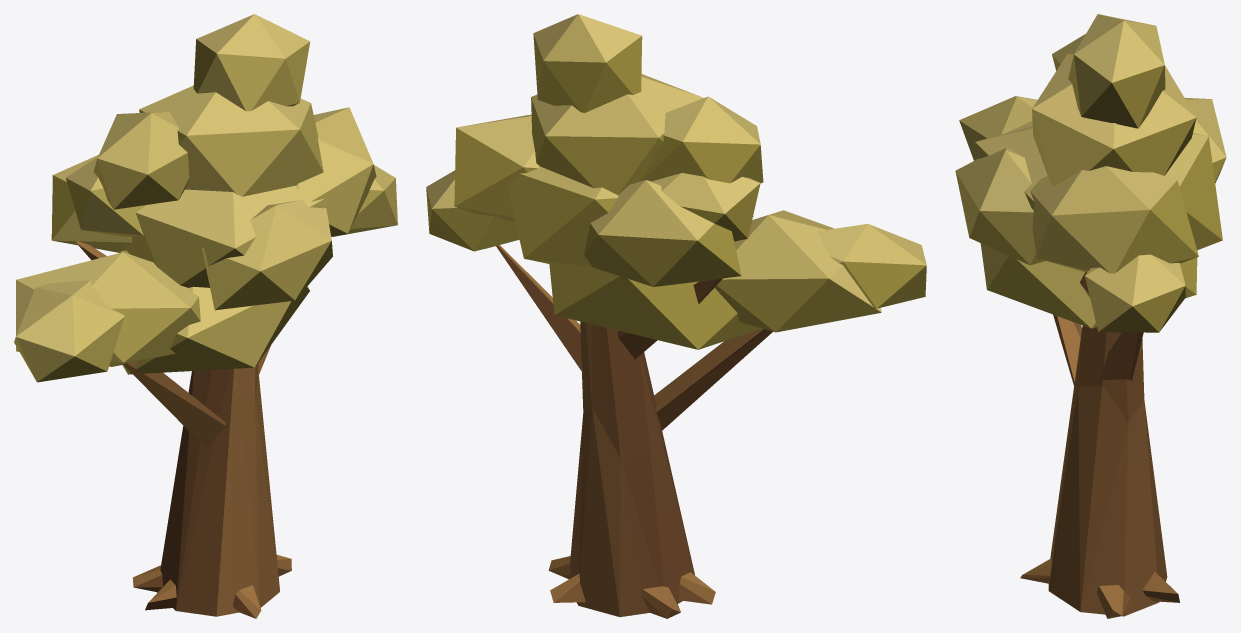
3 views of the same model, side by side, from view 1: azimuth 30°, elevation 25°; view 2: azimuth 150°, elevation 25°; view 3: azimuth 270°, elevation 25° (orthographic). The views are drawn at different scales.
Parts seen in each view (by area): view 1: WK_RegularTree_GoldenGrove_LOD1_Balanced; view 2: WK_RegularTree_GoldenGrove_LOD1_Balanced; view 3: WK_RegularTree_GoldenGrove_LOD1_Balanced.
Part boxes in pixels (box(x1,y1,x2,y2)): WK_RegularTree_GoldenGrove_LOD1_Balanced: box(14, 14, 397, 618); WK_RegularTree_GoldenGrove_LOD1_Balanced: box(426, 14, 926, 618); WK_RegularTree_GoldenGrove_LOD1_Balanced: box(955, 14, 1226, 618).
Bounding box in the file's own units: 4.98 × 6.2 × 2.56.
